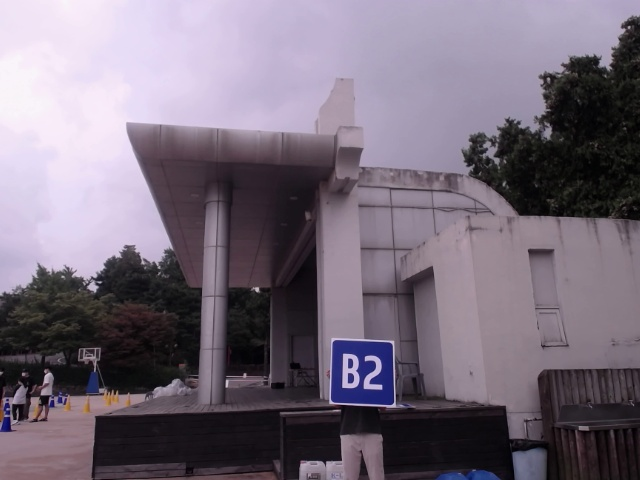delivery_b2: (331, 339, 396, 407)
